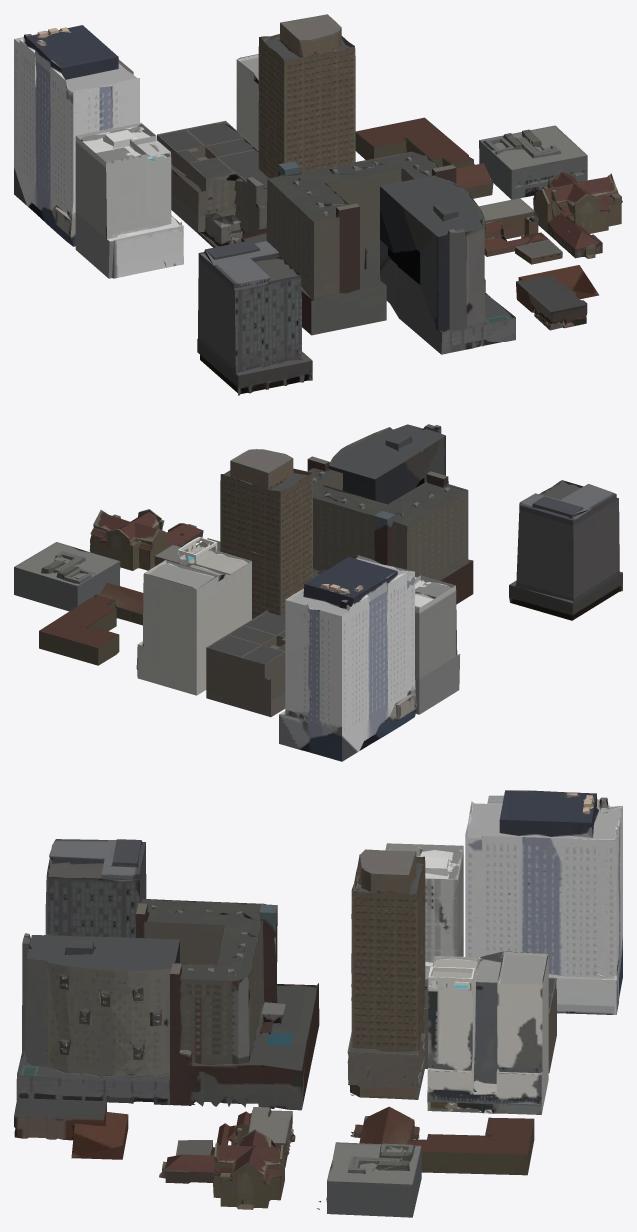
File: t_-2_0.coat.glb
3 renders of one model, top to bottom at view 1: azimuth 30°, elevation 25°; view 2: azimuth 150°, elevation 25°; view 3: azimuth 270°, elevation 25°, orthographic. The views are drawn at different scales.
Parts seen in each view (by area): view 1: far; view 2: far; view 3: far.
Boxes of the visible parts, <box> form: far: <box>14,14,622,395</box>; far: <box>14,424,622,761</box>; far: <box>14,790,622,1217</box>.
Bounding box in the file's own units: 246 × 96.58 × 242.
1 material, 1 textured.
